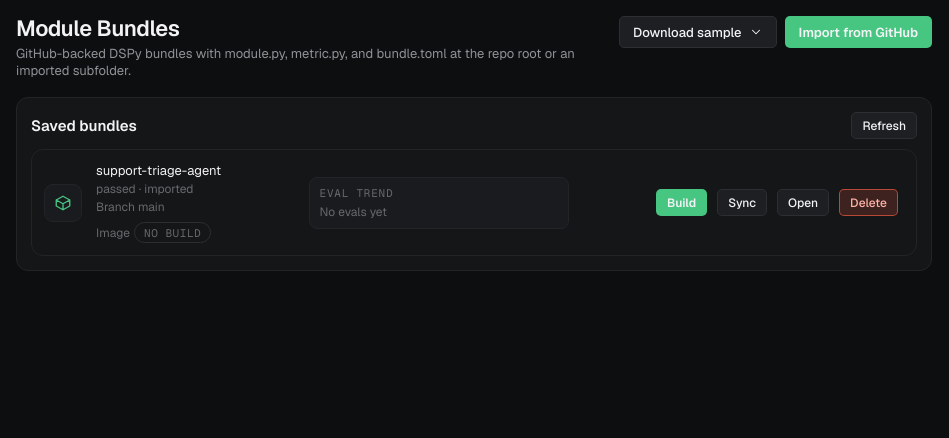
Test: BundlesPage › handles non-array diagnostics when viewing saved bundle
Click the button "Open" at coordinates (803, 203), box [777, 189, 829, 216]
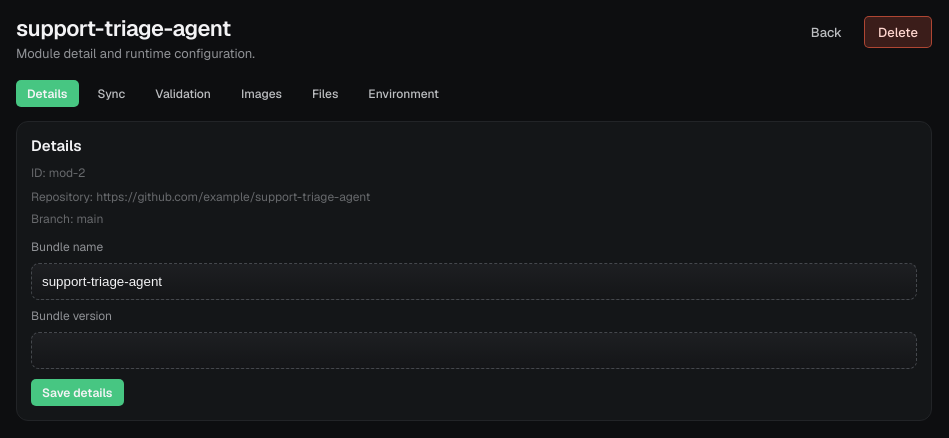
Expected: the field labelled "Bundle name" is shown, [31, 263, 917, 300]
